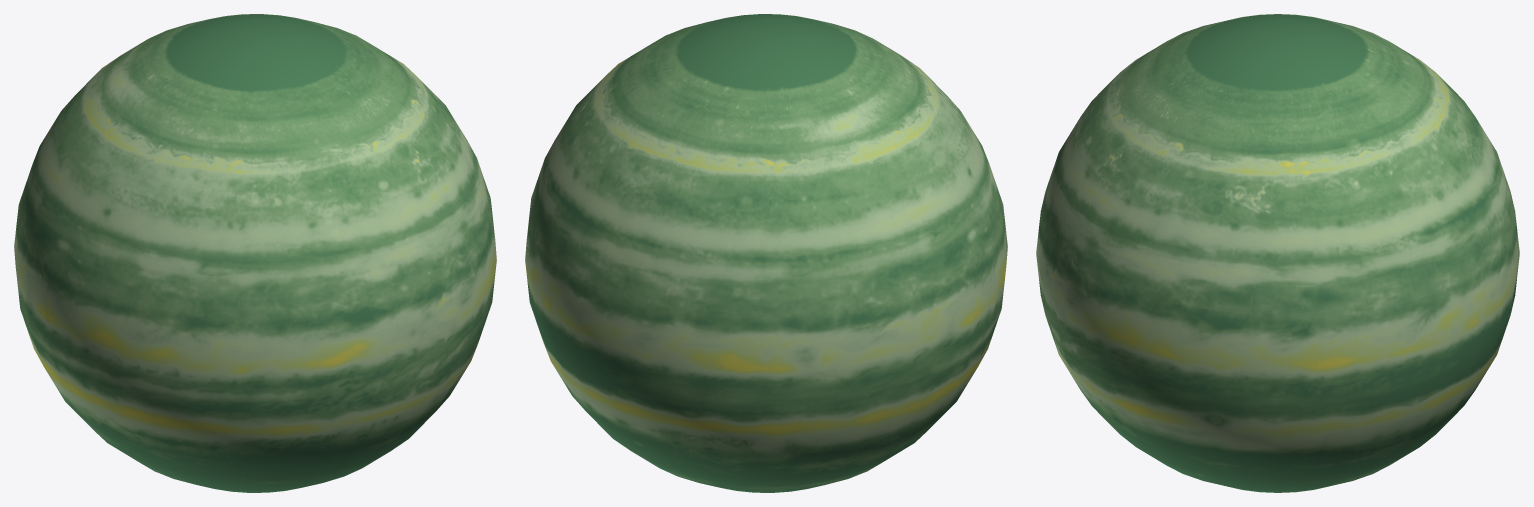
Rendered from planet-7.glb.
3 renders of one model, left to right at view 1: azimuth 30°, elevation 25°; view 2: azimuth 150°, elevation 25°; view 3: azimuth 270°, elevation 25°, orthographic.
Parts seen in each view (by area): view 1: HIP 65426 b; view 2: HIP 65426 b; view 3: HIP 65426 b.
Boxes of the visible parts, x1,y1,x2,y2 form: HIP 65426 b: (14,14,496,492); HIP 65426 b: (525,14,1007,492); HIP 65426 b: (1036,14,1519,492).
Bounding box in the file's own units: 1.01 × 1 × 1.01.
Materials: 1 (1 with a texture image).
